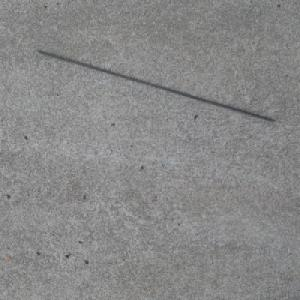LuggagePart: (34, 49, 276, 122)
